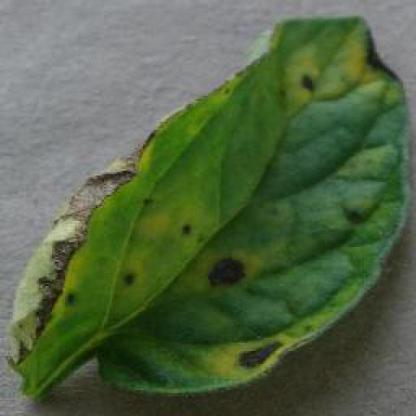Tomato_Blight: (9, 17, 407, 400)
